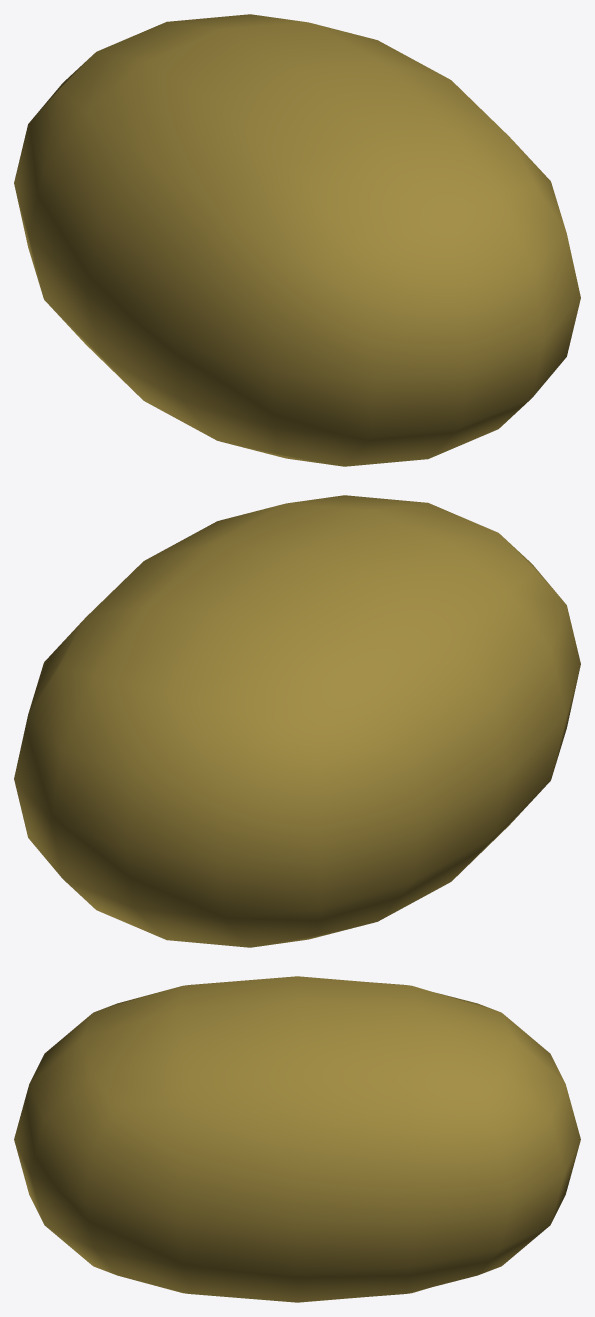
Rendered from Potato.fbx.
3 renders of one model, top to bottom at view 1: azimuth 30°, elevation 25°; view 2: azimuth 150°, elevation 25°; view 3: azimuth 270°, elevation 25°, orthographic. The views are drawn at different scales.
Parts seen in each view (by area): view 1: Potato; view 2: Potato; view 3: Potato.
Boxes of the visible parts, x1,y1,x2,y2 form: Potato: [14, 14, 580, 466]; Potato: [14, 495, 580, 947]; Potato: [14, 976, 580, 1302].
Bounding box in the file's own units: 182 × 139 × 258.
